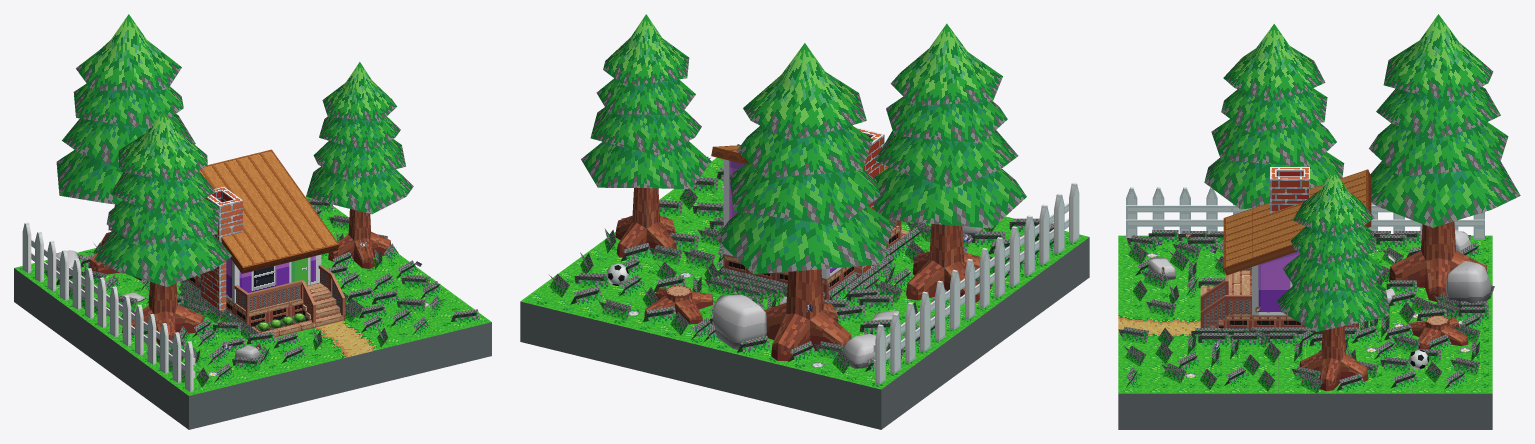
The model's file is house.gltf.
The picture shows the model from 3 angles, left to right: view 1: azimuth 30°, elevation 25°; view 2: azimuth 150°, elevation 25°; view 3: azimuth 270°, elevation 25°; orthographic projection. The views are drawn at different scales.
Visible parts, largest first — view 1: ground, tree_01, tree_02, tree_00, house, fence, support, chimney; view 2: ground, tree_02, tree_01, tree_00, fence, rock_02, tree_stump, house, support, chimney, rock_04; view 3: ground, tree_02, tree_01, tree_00, house, fence, support, chimney, rock_02, tree_stump, grass_092, rock_00 (+4 smaller).
Boxes of the visible parts, <box> form: ground: <box>14,197,491,429</box>; tree_01: <box>94,110,231,344</box>; tree_02: <box>56,14,195,280</box>; tree_00: <box>306,62,413,268</box>; house: <box>197,149,339,303</box>; fence: <box>22,222,195,391</box>; support: <box>187,265,345,337</box>; chimney: <box>200,187,242,318</box>; ground: <box>520,157,1089,429</box>; tree_02: <box>715,43,894,360</box>; tree_01: <box>872,23,1026,302</box>; tree_00: <box>581,14,711,257</box>; fence: <box>873,182,1079,384</box>; rock_02: <box>712,294,766,349</box>; tree_stump: <box>644,285,713,323</box>; house: <box>711,145,888,278</box>; support: <box>723,219,909,299</box>; chimney: <box>854,127,884,276</box>; rock_04: <box>842,333,888,368</box>; ground: <box>1118,235,1492,429</box>; tree_02: <box>1369,14,1520,301</box>; tree_01: <box>1204,24,1344,209</box>; tree_00: <box>1277,169,1390,391</box>; house: <box>1223,169,1371,315</box>; fence: <box>1126,187,1484,239</box>; support: <box>1200,267,1358,330</box>; chimney: <box>1270,167,1309,213</box>; rock_02: <box>1446,261,1491,304</box>; tree_stump: <box>1407,315,1468,349</box>; grass_092: <box>1376,234,1406,248</box>; rock_00: <box>1148,257,1176,280</box>.
Size of the model in its own units: 15.1 by 12.57 by 15.06.
Materials: 1 (1 with a texture image).
